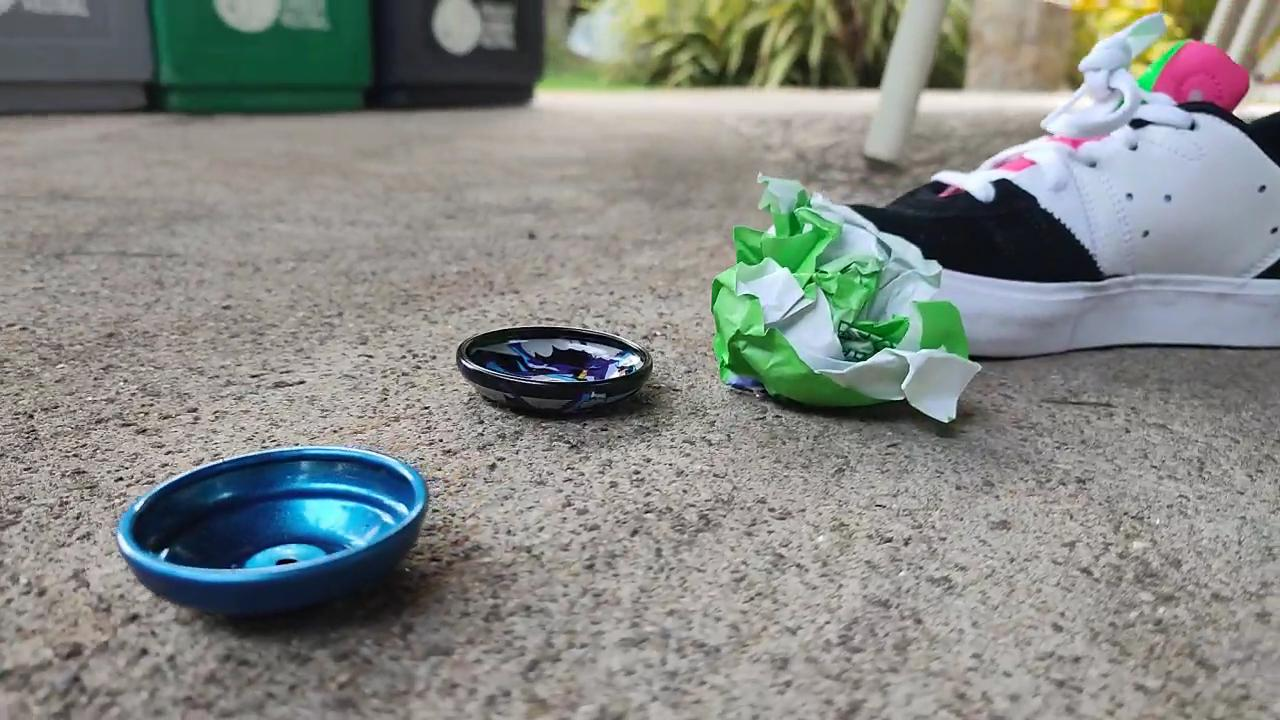Paper: (701, 162, 982, 436)
